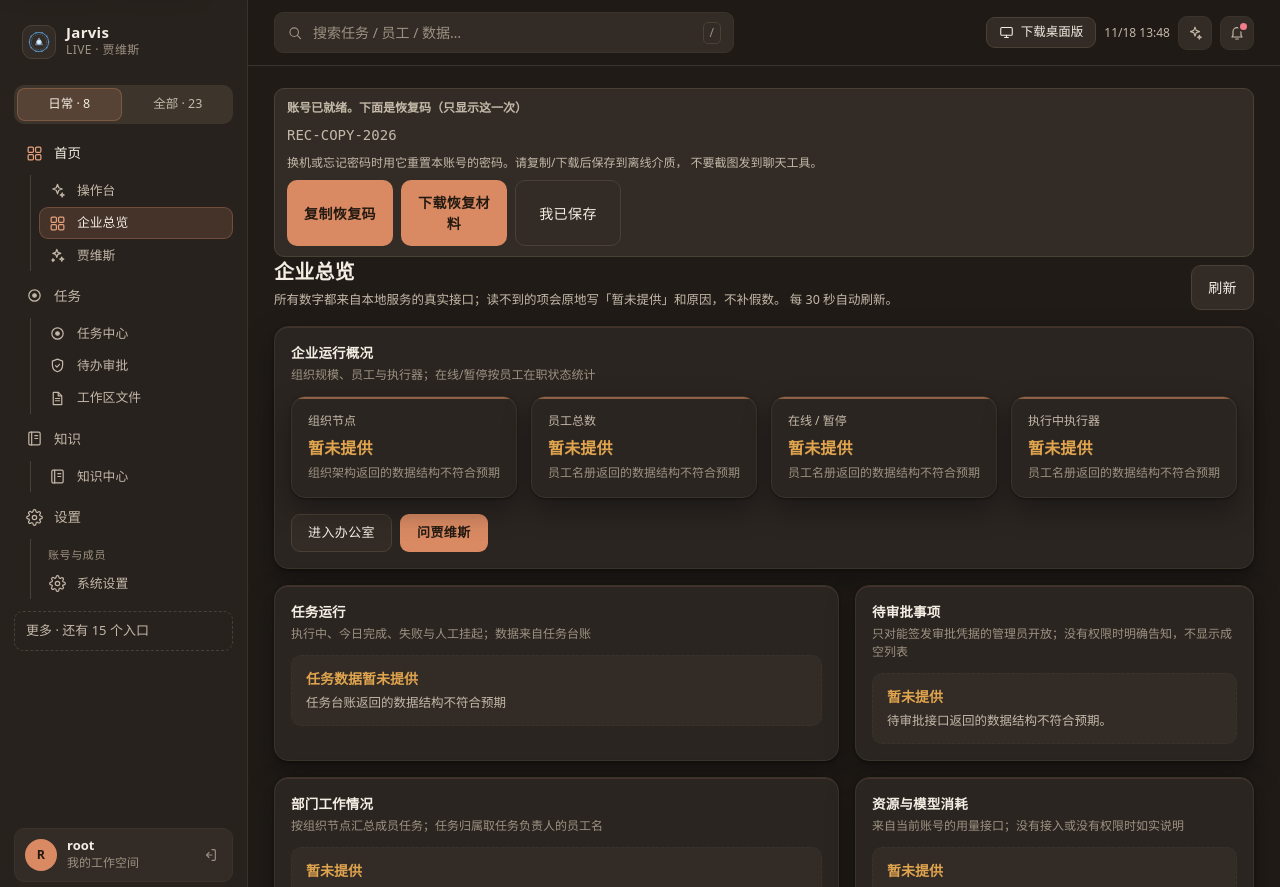
Test: 恢复码即时可见（PROD-006） › 恢复码横幅可一键复制，且下载入口仍在
The image size is (1280, 887).
Click the button "复制恢复码" at (340, 213), box x1=287 y1=180 x2=393 y2=246
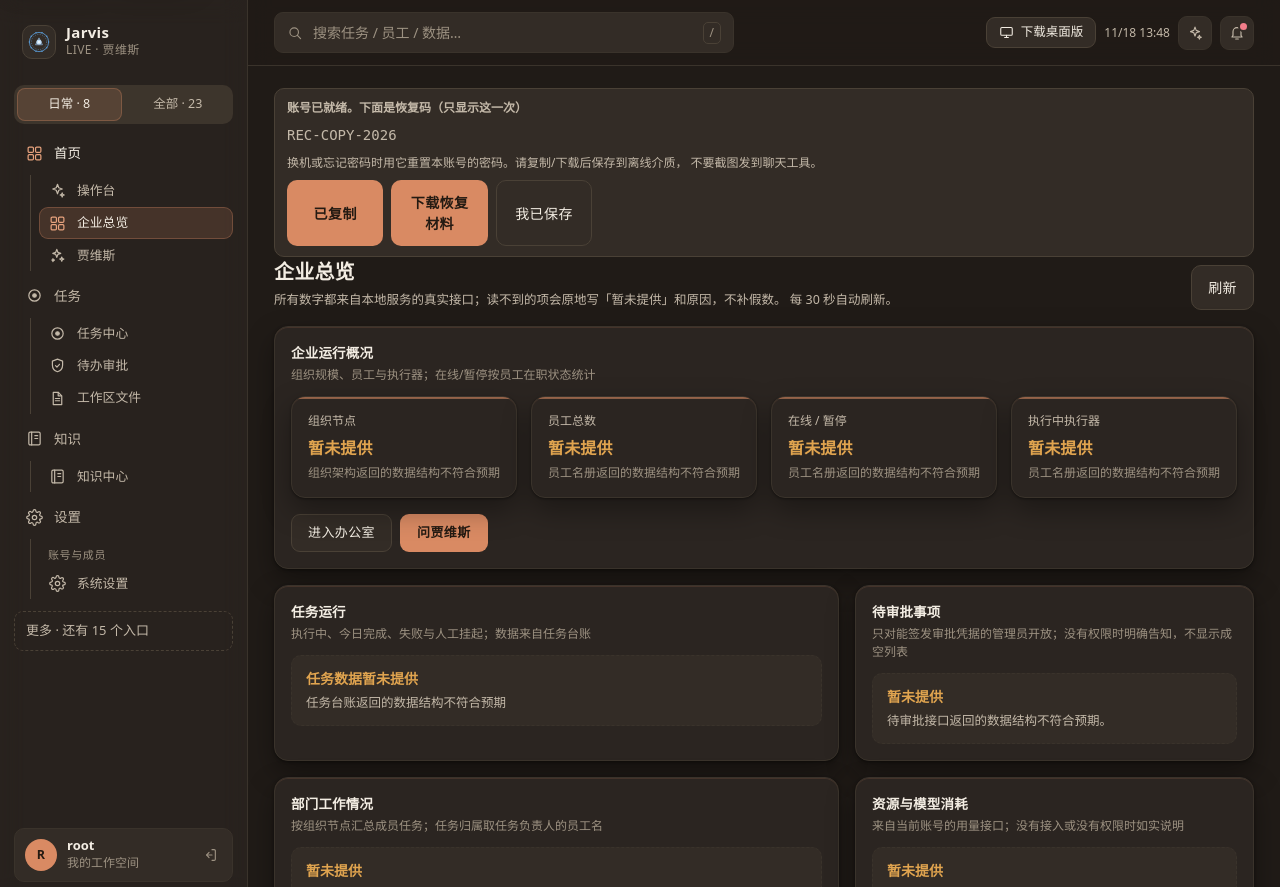
Expected: the button "下载恢复材料" is shown, x1=391 y1=180 x2=488 y2=246
Now the button "已复制" is shown, box x1=287 y1=180 x2=383 y2=246
